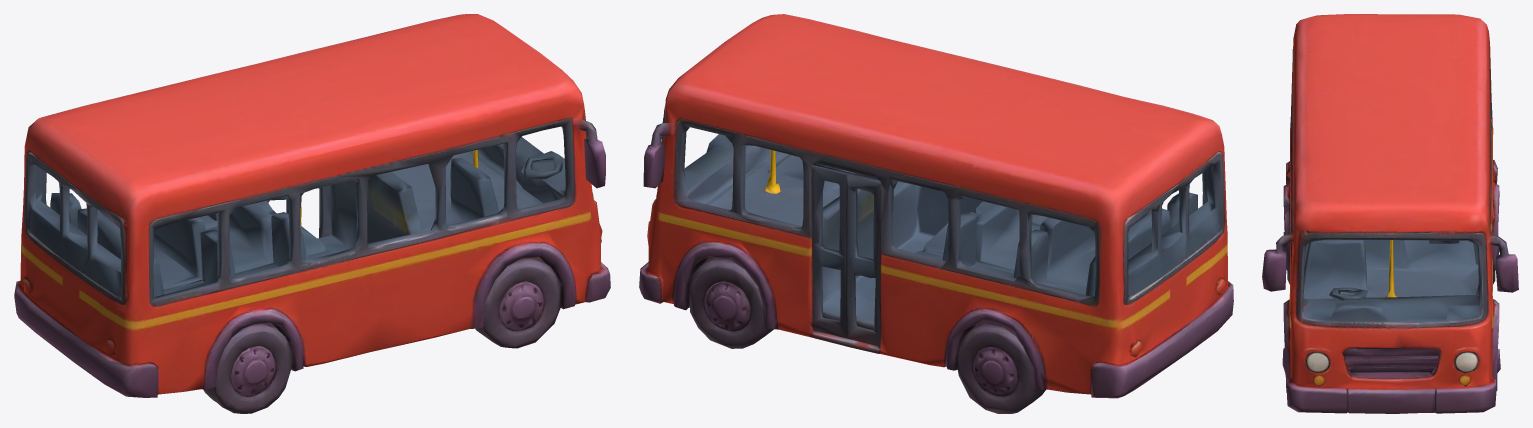
Rendered from street-bus.glb.
The picture shows the model from 3 angles, left to right: view 1: azimuth 30°, elevation 25°; view 2: azimuth 150°, elevation 25°; view 3: azimuth 270°, elevation 25°; orthographic projection. The views are drawn at different scales.
Parts seen in each view (by area): view 1: tripo_node_9c6de552-df5c-4ab2-b836-999eb974d98a; view 2: tripo_node_9c6de552-df5c-4ab2-b836-999eb974d98a; view 3: tripo_node_9c6de552-df5c-4ab2-b836-999eb974d98a.
Boxes of the visible parts, x1=… form: tripo_node_9c6de552-df5c-4ab2-b836-999eb974d98a: x1=14, y1=14, x2=610, y2=413; tripo_node_9c6de552-df5c-4ab2-b836-999eb974d98a: x1=639, y1=14, x2=1233, y2=413; tripo_node_9c6de552-df5c-4ab2-b836-999eb974d98a: x1=1262, y1=14, x2=1518, y2=413.
Bounding box in the file's own units: 1 × 0.481 × 0.5034.
1 material, 1 textured.
